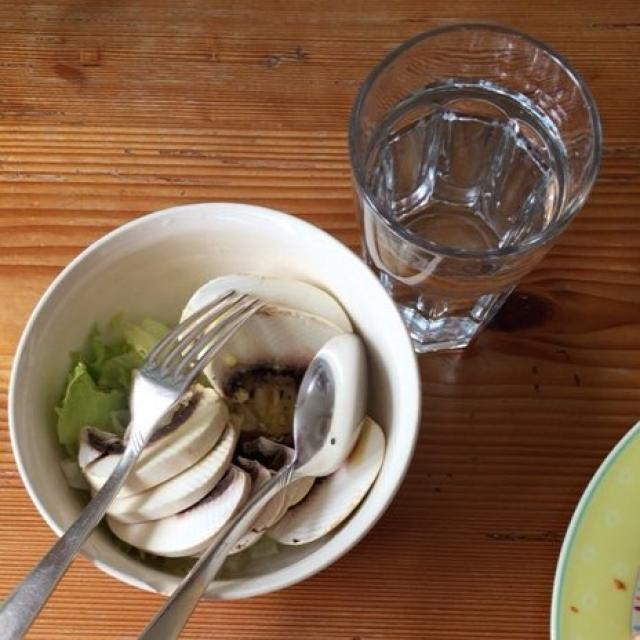mushroom: (74, 279, 387, 559)
salad: (50, 317, 170, 451)
water: (368, 95, 557, 253)
